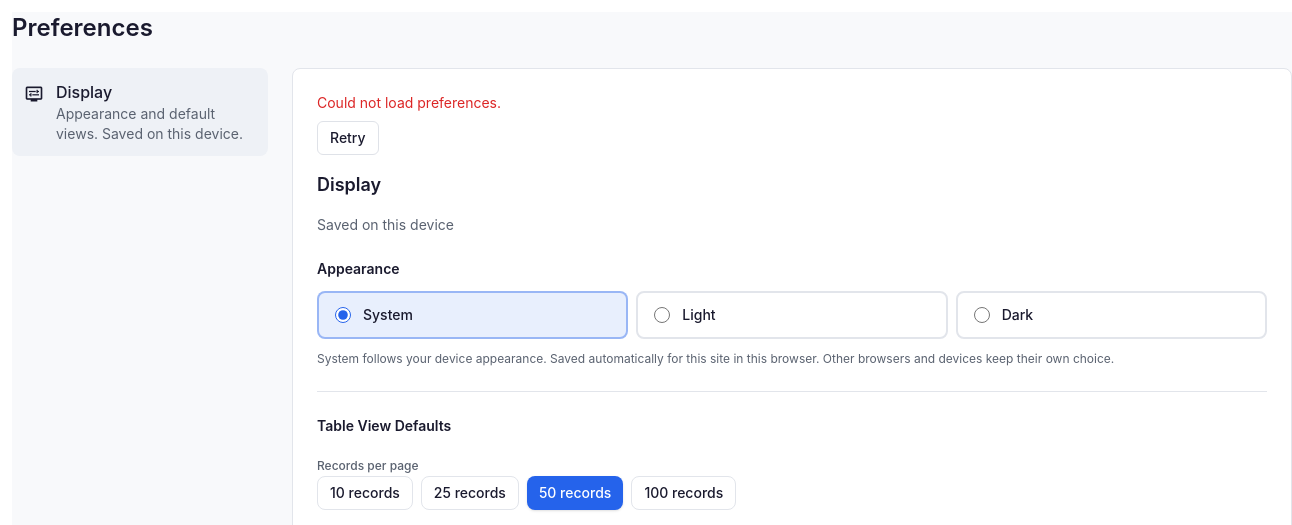
Test: offers retry on errors and keeps local display settings accessible
The width and height of the screenshot is (1292, 525).
Expected: the message shows "Could not load preferences.", [317, 94, 501, 111]
Expected: the radio button labelled "Light" is shown, [654, 307, 670, 323]
Click the button "Retry" at (348, 138), box [317, 121, 379, 155]
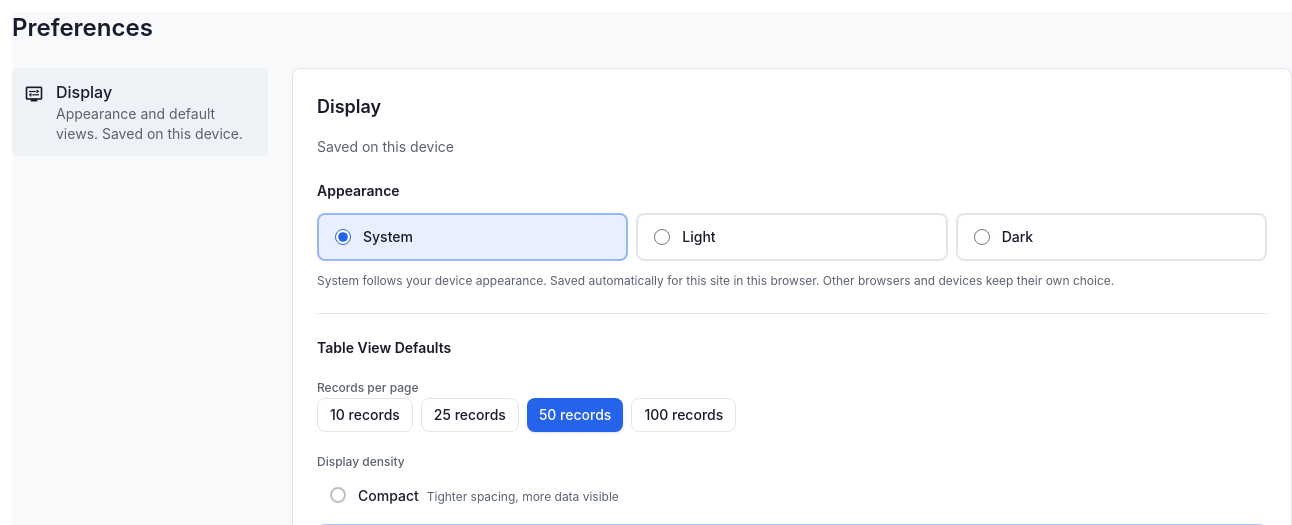
Result: the message "Could not load preferences. Retry" is gone
